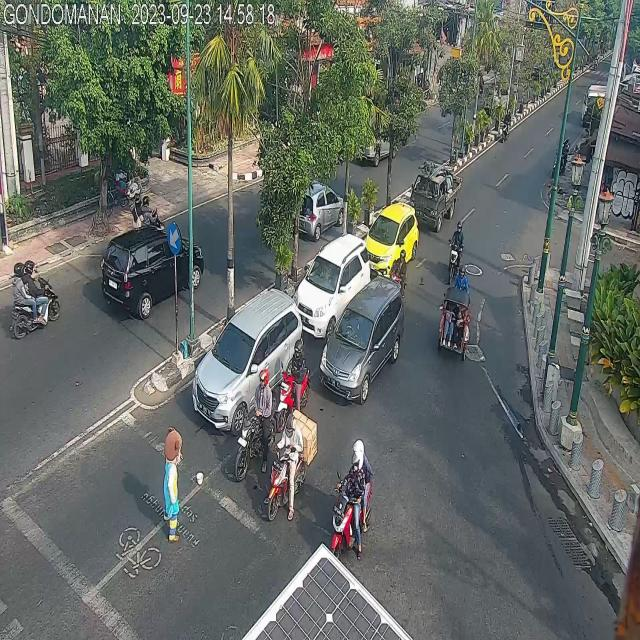car: (190, 284, 305, 422), (321, 279, 404, 398), (101, 229, 206, 311), (299, 236, 373, 340), (363, 195, 419, 266), (292, 185, 348, 241)
motorcycle: (266, 411, 314, 522), (329, 439, 371, 558), (235, 365, 278, 476), (10, 257, 60, 338), (279, 335, 311, 417), (132, 188, 164, 229), (446, 221, 464, 284), (392, 242, 407, 292)
truck: (412, 167, 462, 225)
